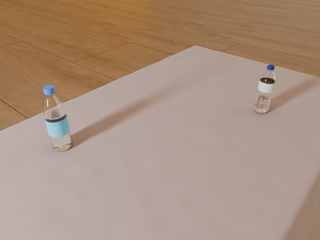bottle: (43, 85, 72, 151), (254, 65, 276, 113)
